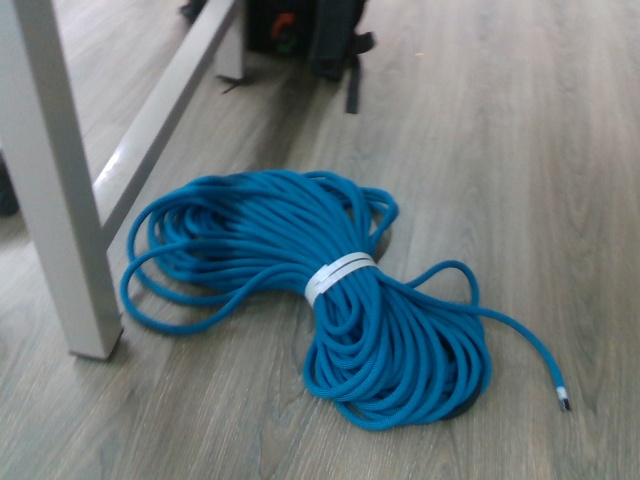rope: (120, 164, 574, 431)
